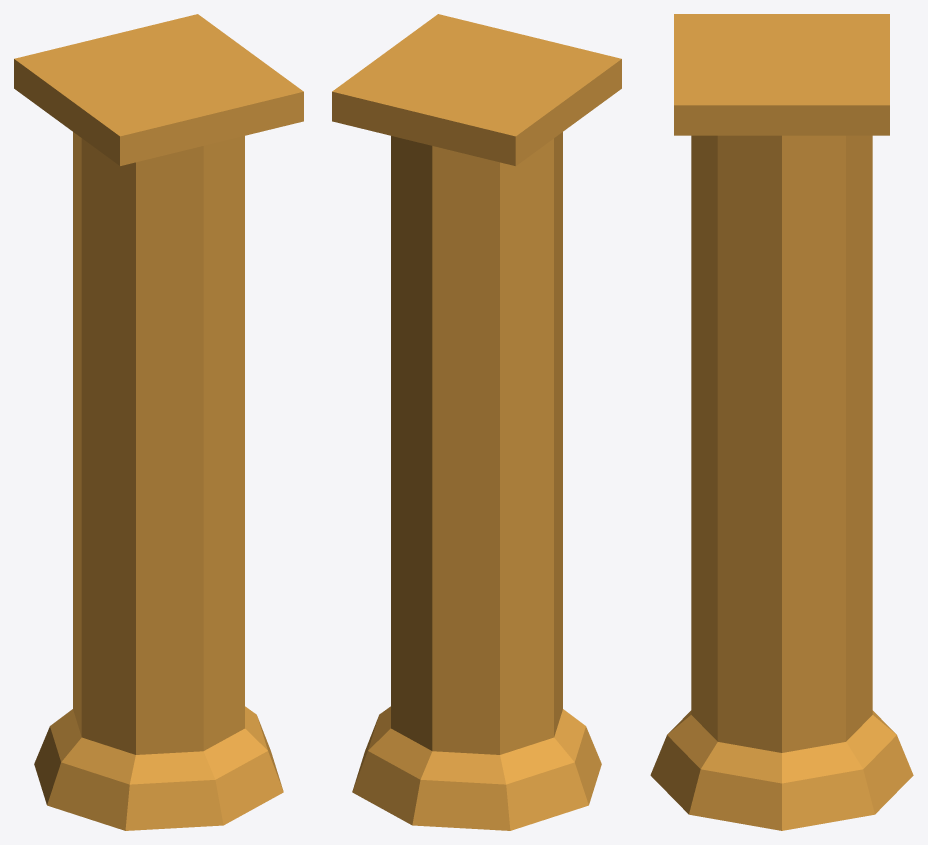
The model's file is egypt-egypt-pillar-proto-doric.glb.
The picture shows the model from 3 angles, left to right: view 1: azimuth 30°, elevation 25°; view 2: azimuth 150°, elevation 25°; view 3: azimuth 270°, elevation 25°; orthographic projection.
Visible parts, largest first — view 1: egypt-pillar-proto-doric; view 2: egypt-pillar-proto-doric; view 3: egypt-pillar-proto-doric.
Part boxes in pixels (bbox=[...]): egypt-pillar-proto-doric: bbox=[14, 14, 303, 830]; egypt-pillar-proto-doric: bbox=[332, 14, 621, 830]; egypt-pillar-proto-doric: bbox=[650, 14, 913, 830].
Bounding box in the file's own units: 3 × 9 × 3.
